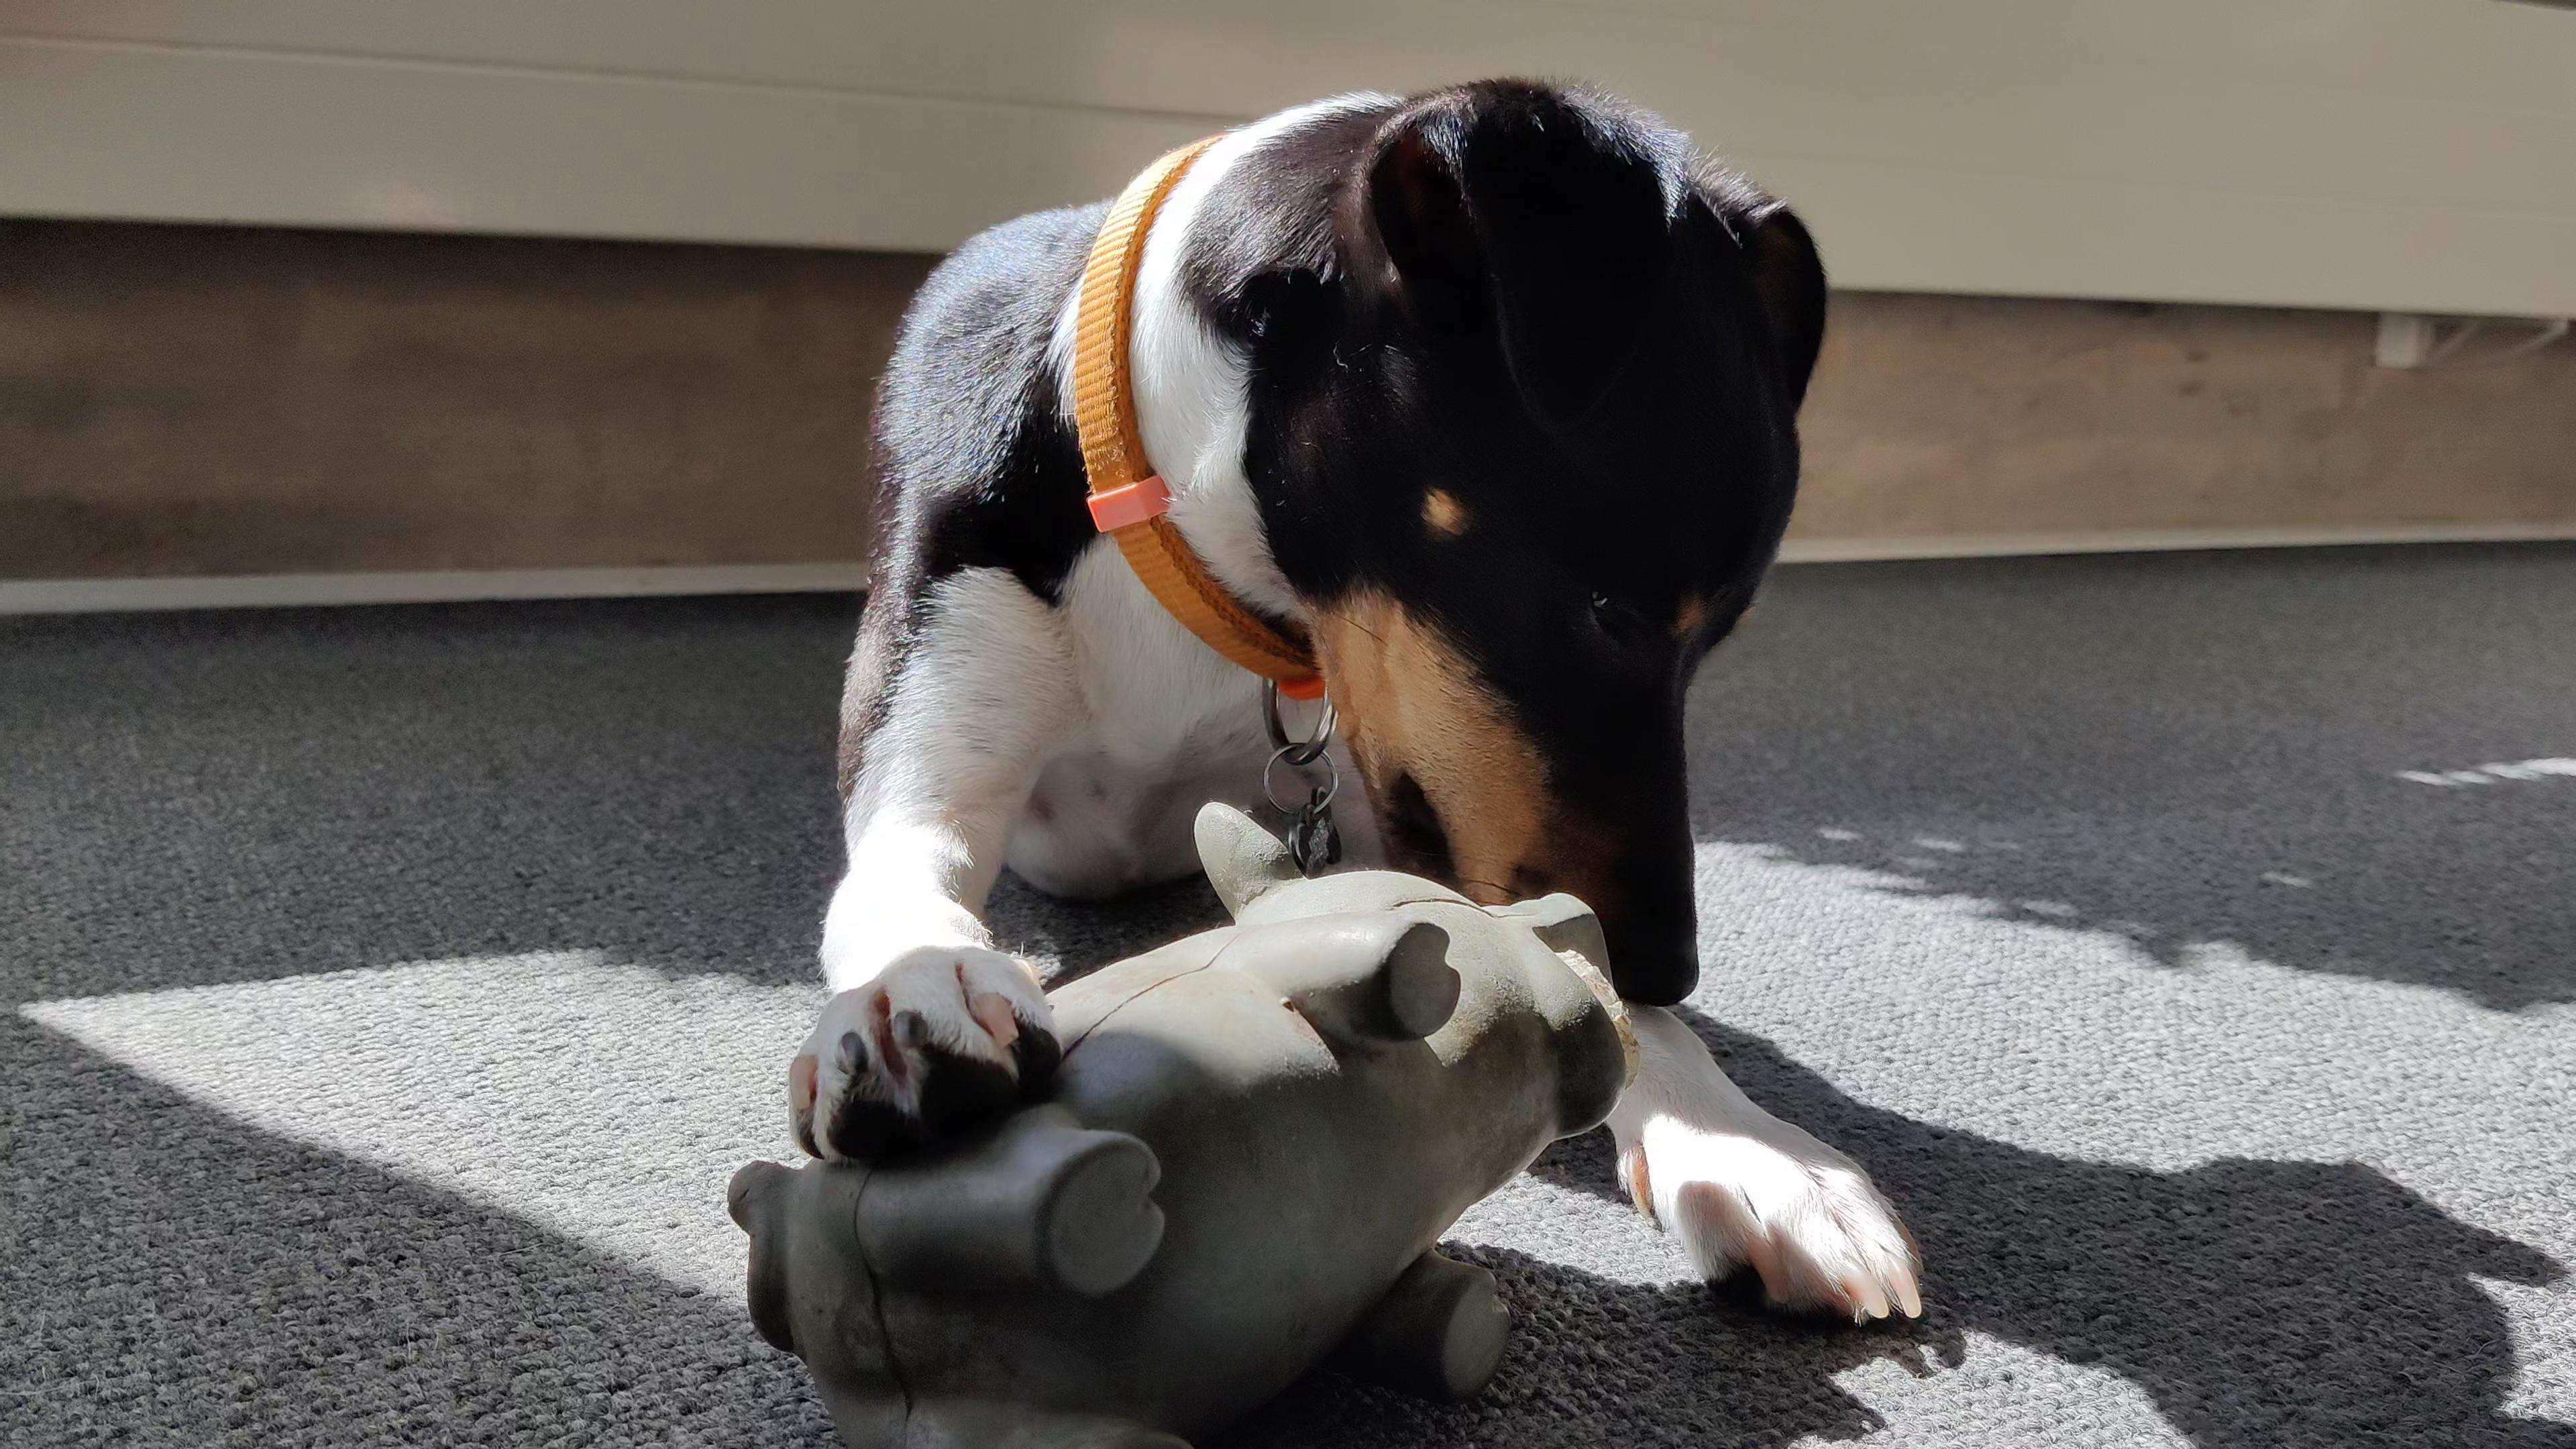Dog: (768, 50, 1966, 1339)
